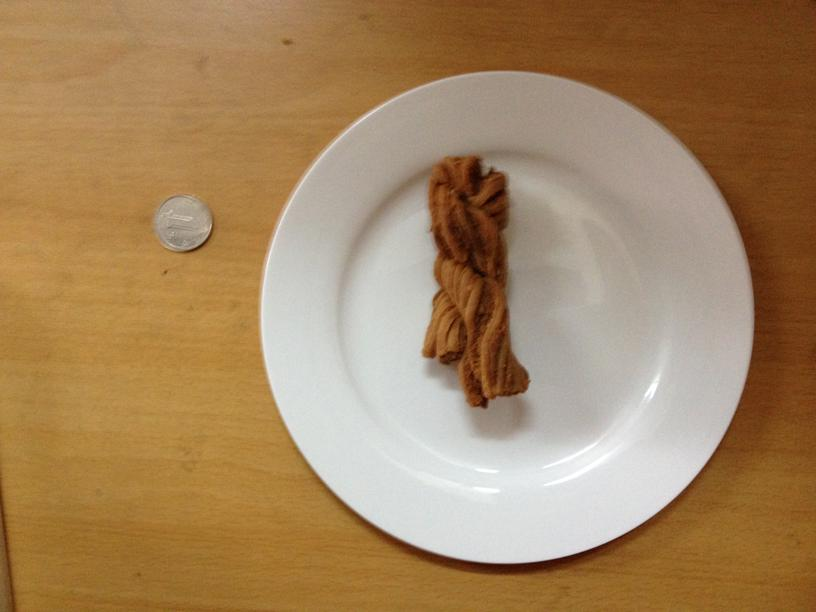coin: (153, 190, 212, 250)
fired_dough_twist: (418, 154, 532, 401)
